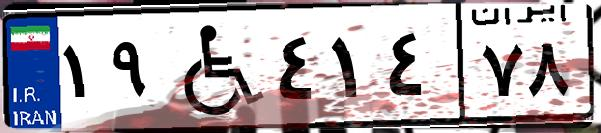1: (330, 28, 385, 110), (57, 26, 110, 100)
4: (270, 28, 330, 110), (385, 28, 445, 110)
7: (475, 38, 525, 113)
8: (525, 38, 570, 115)
9: (110, 28, 158, 98)
ژ (معلولین و جانبازان): (158, 12, 270, 120)
